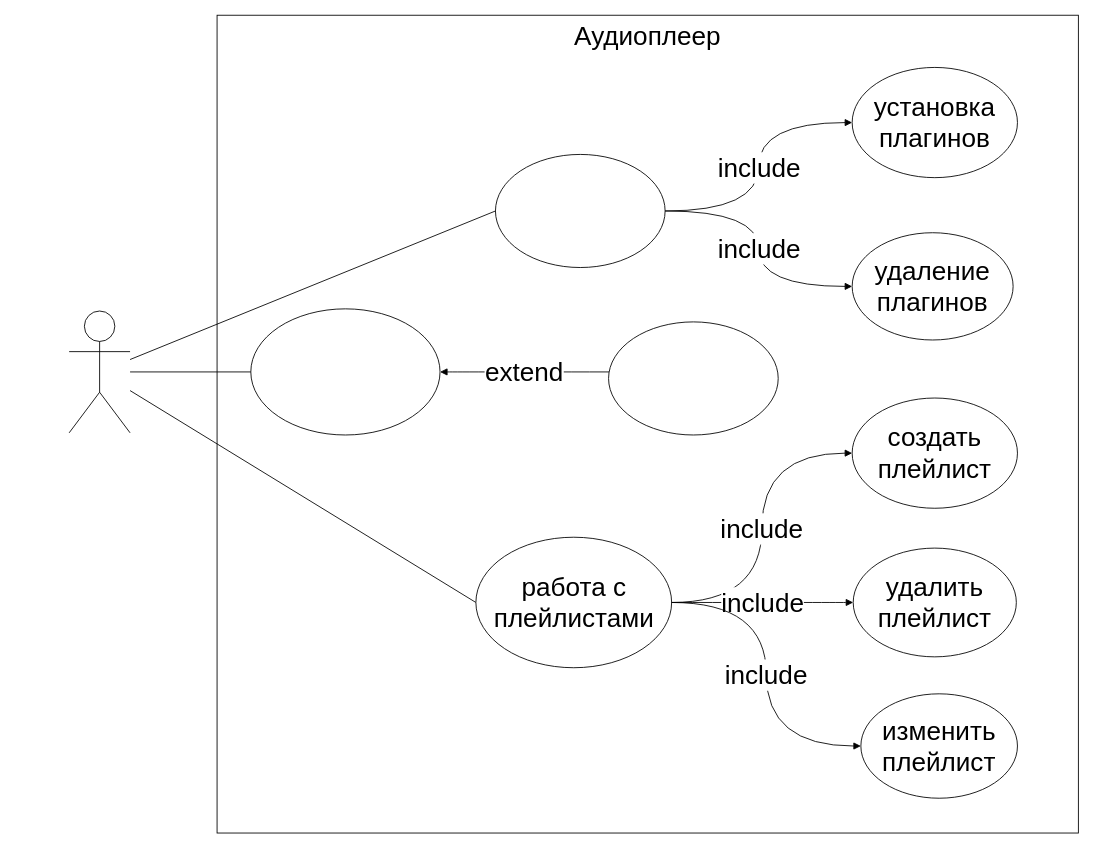
Image size: 1094x848. Some labels were removed from this diagram. The centre of each missing label's shape, as x and y in pixels:
"Пользователь" belongs at point 99,371.
"прослушать композицию" belongs at point 345,371.
"прослушать плейлист" belongs at point 693,378.
"работа с плагинами" belongs at point 580,211.
